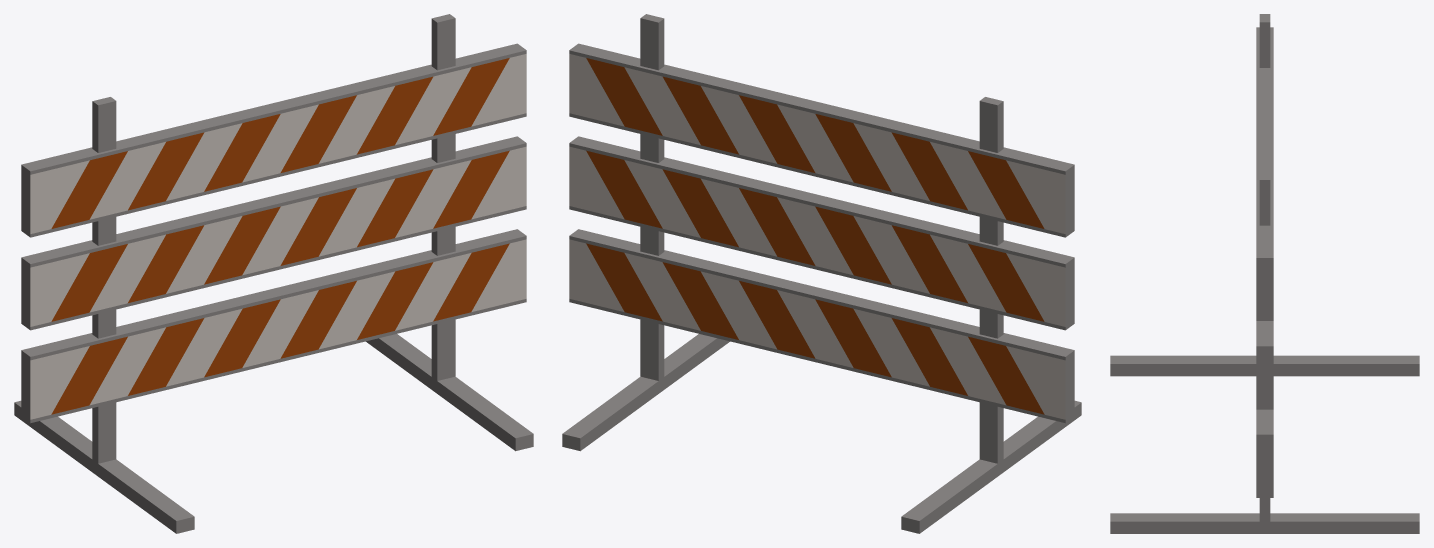
Rendered from cc0-traffic-lod1.glb.
3 renders of one model, left to right at view 1: azimuth 30°, elevation 25°; view 2: azimuth 150°, elevation 25°; view 3: azimuth 270°, elevation 25°, orthographic. The views are drawn at different scales.
Visible parts, largest first — view 1: part_0; view 2: part_0; view 3: part_0.
Boxes of the visible parts, x1,y1,x2,y2 form: part_0: (14, 14, 533, 533); part_0: (562, 14, 1081, 533); part_0: (1110, 14, 1419, 533).
Bounding box in the file's own units: 1.56 × 1.11 × 0.8806.
1 material, 1 textured.
